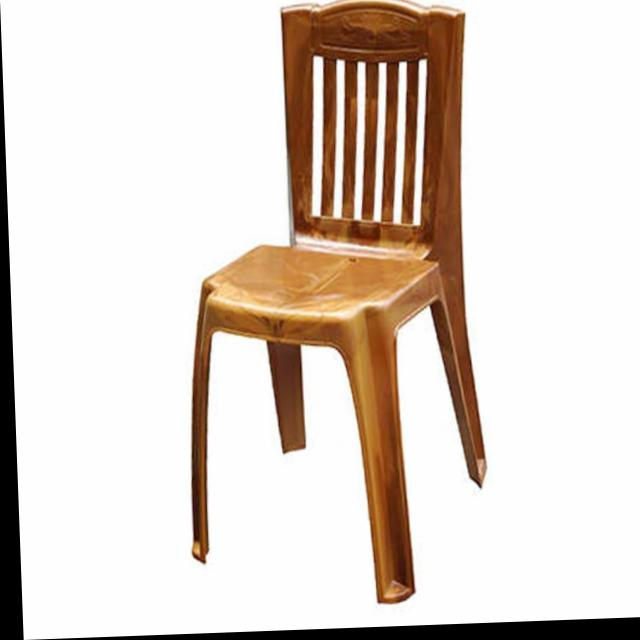Chair: (170, 0, 490, 612)
